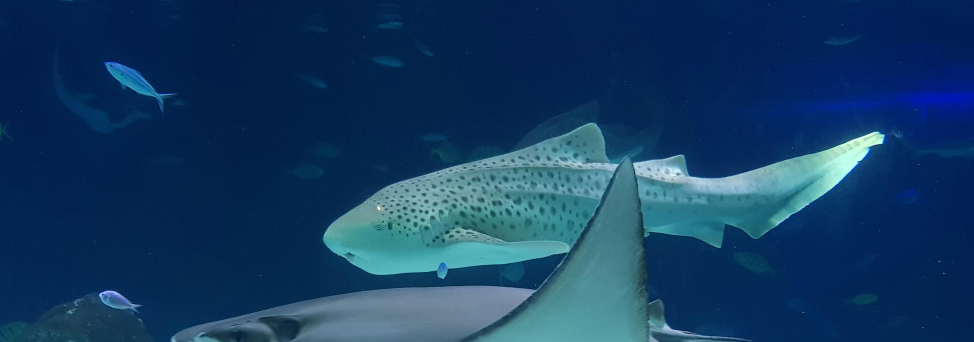dolphin: (322, 122, 885, 278)
fishLarge: (105, 59, 177, 113)
fishSmall: (98, 289, 142, 315)
